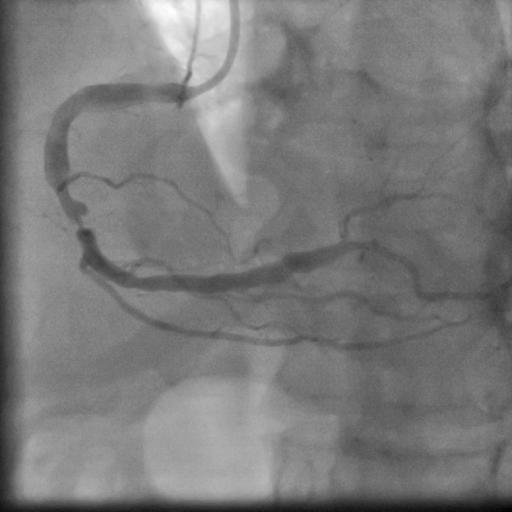Stenosis: (54, 192, 97, 238)
